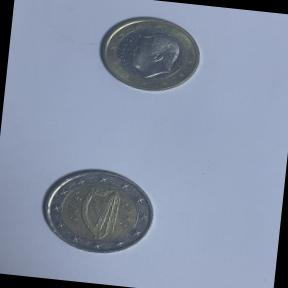coin: (35, 162, 161, 260), (92, 9, 206, 100)
